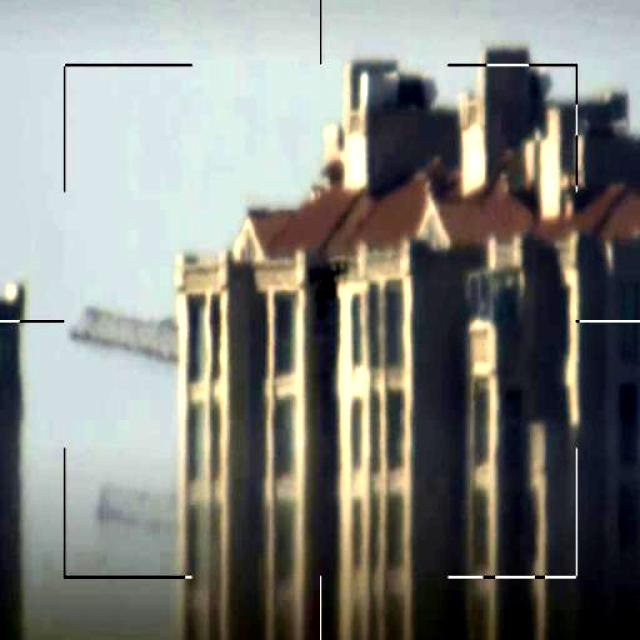bird: (300, 251, 349, 319)
